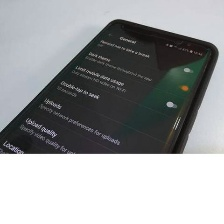phone: (0, 16, 221, 204)
